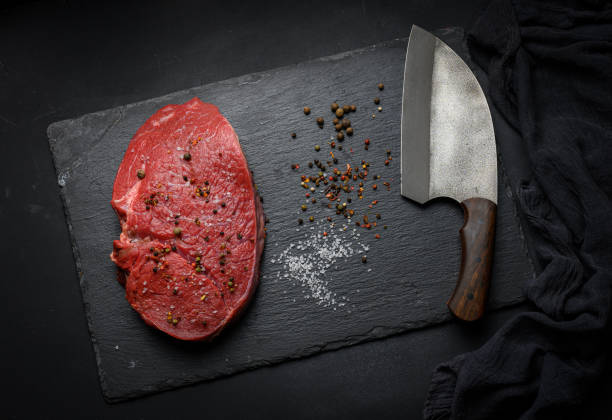knife: (399, 21, 501, 324)
